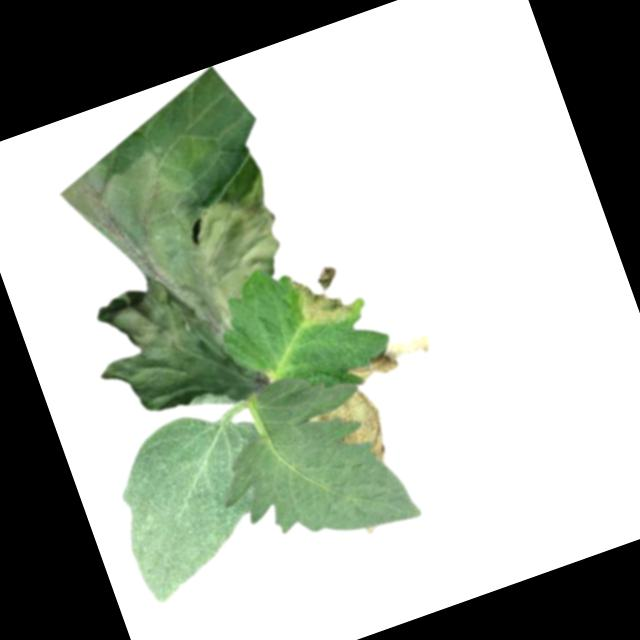Late_blight: (25, 109, 331, 444), (306, 382, 395, 480), (338, 326, 437, 389), (284, 258, 357, 336)
healthy: (195, 350, 422, 574), (94, 397, 299, 608)
